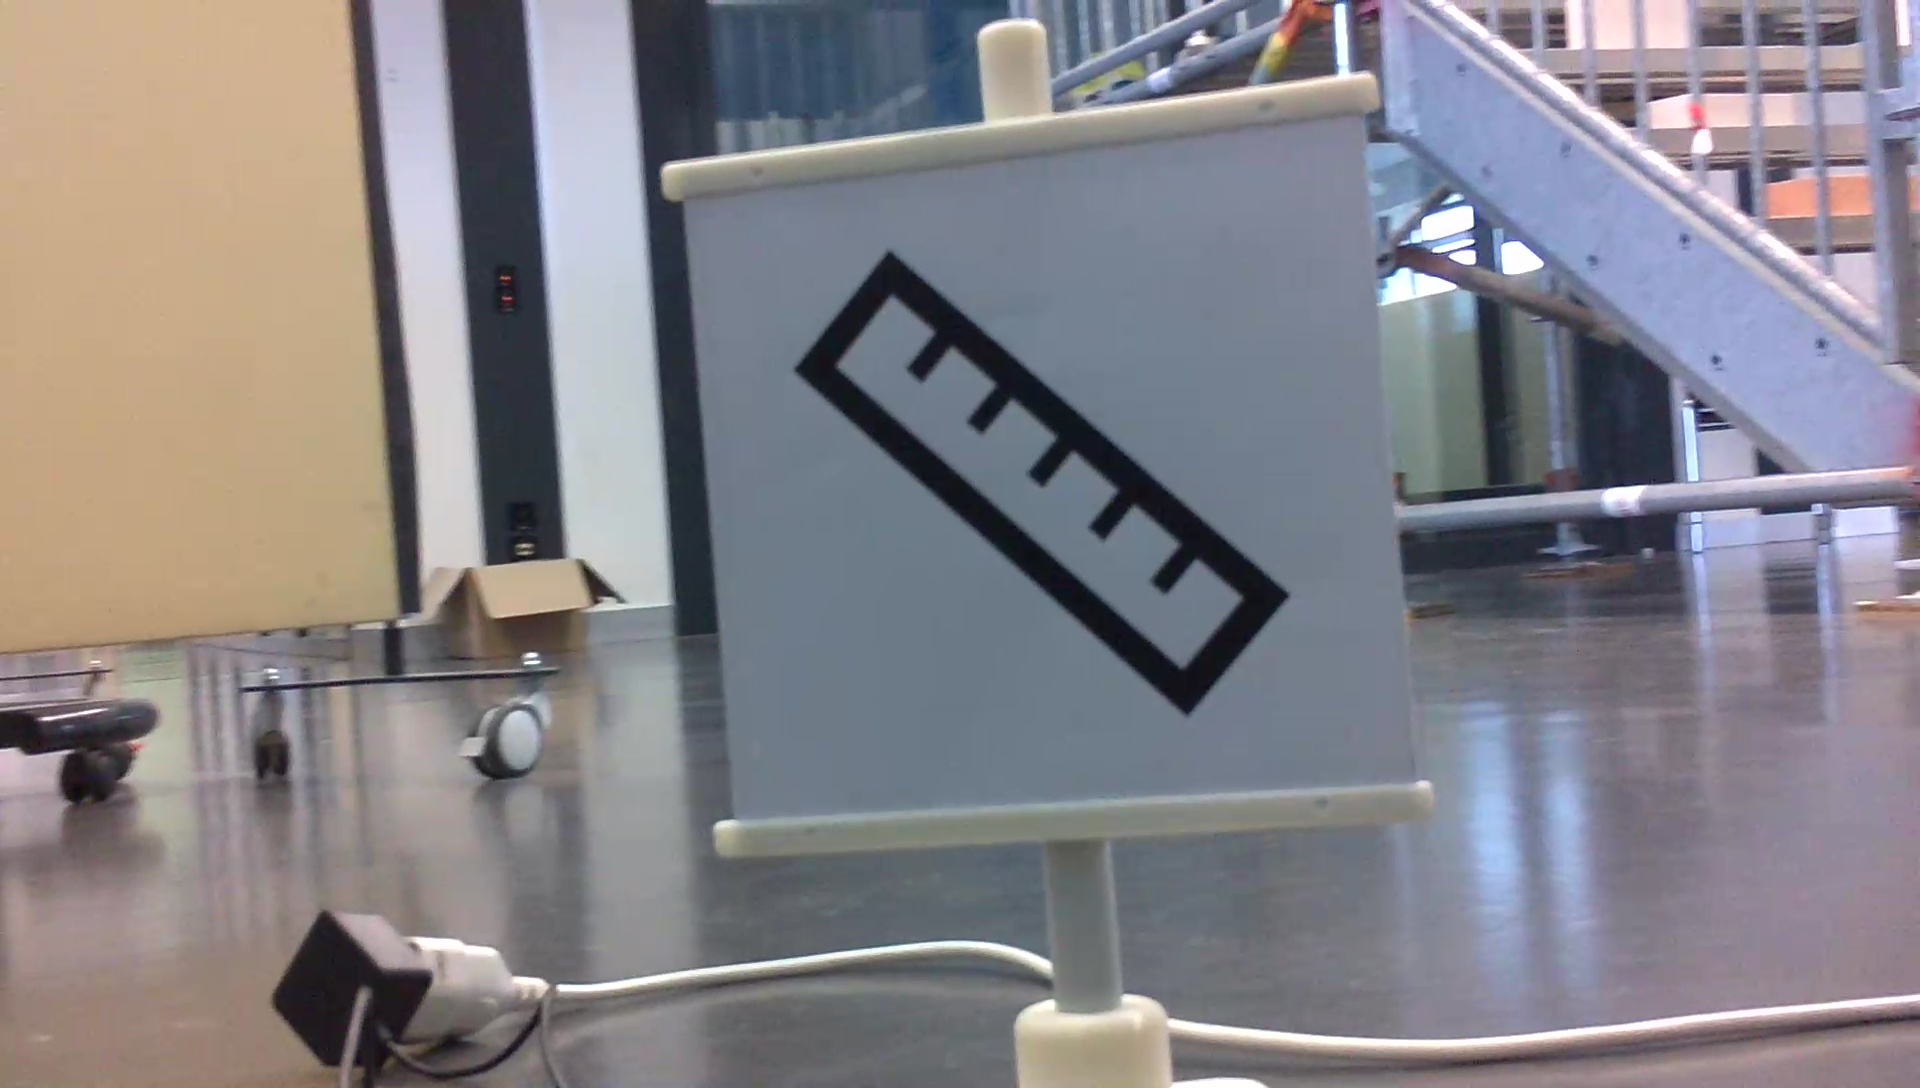ruler: (796, 237, 1296, 719)
